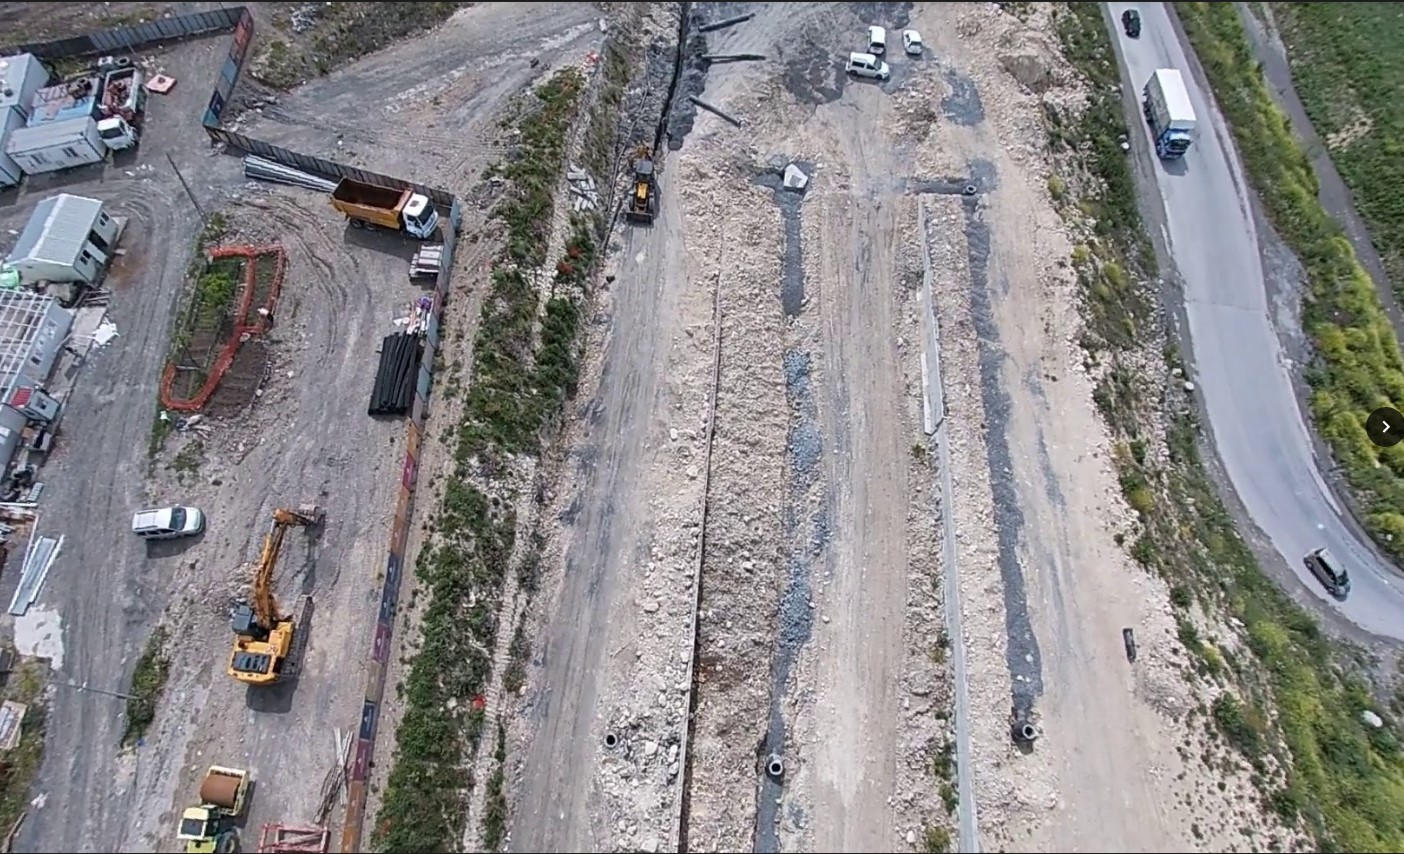araba: (1305, 546, 1355, 595), (128, 504, 202, 533), (848, 48, 896, 82), (1120, 7, 1143, 38), (902, 26, 922, 57), (866, 22, 888, 50)
ismakinasi: (227, 496, 329, 687)
kamyon: (332, 170, 441, 238), (1142, 68, 1195, 161), (97, 65, 150, 148)
traktor: (169, 763, 261, 851), (622, 155, 662, 225)
